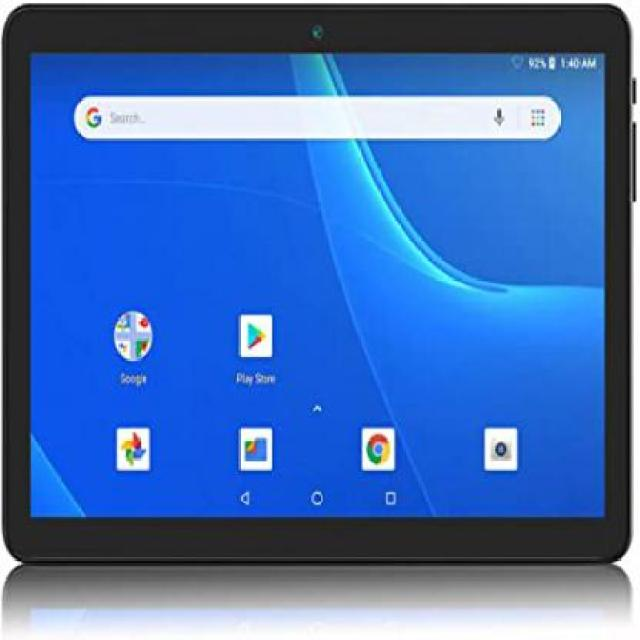tablet: (3, 0, 639, 603)
